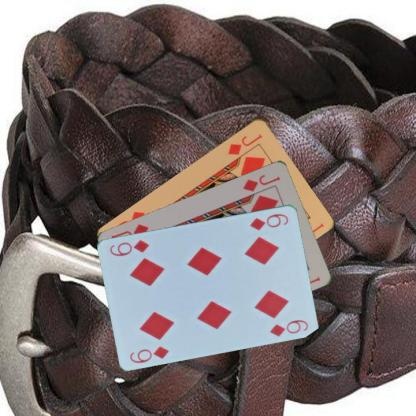6d: (247, 210, 290, 232), (127, 343, 171, 364)
Jd: (226, 131, 263, 156), (240, 171, 282, 192)
